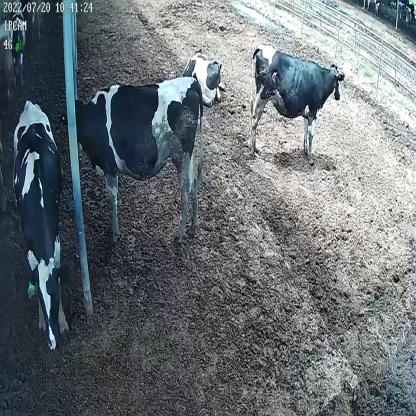cow: (59, 76, 205, 246), (12, 95, 70, 350), (247, 42, 345, 161), (181, 45, 225, 107)
